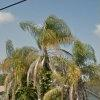Tree: (10, 13, 92, 98)
